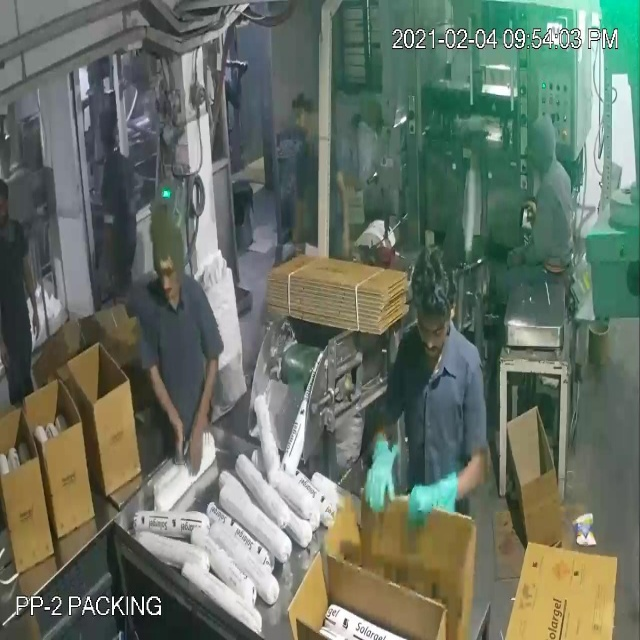Guantes: (406, 474, 464, 546), (367, 425, 402, 517)
Sin_guantes: (181, 338, 222, 476), (143, 348, 187, 474), (332, 156, 358, 268), (291, 177, 310, 276)
